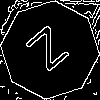Z: (25, 25, 78, 80)
